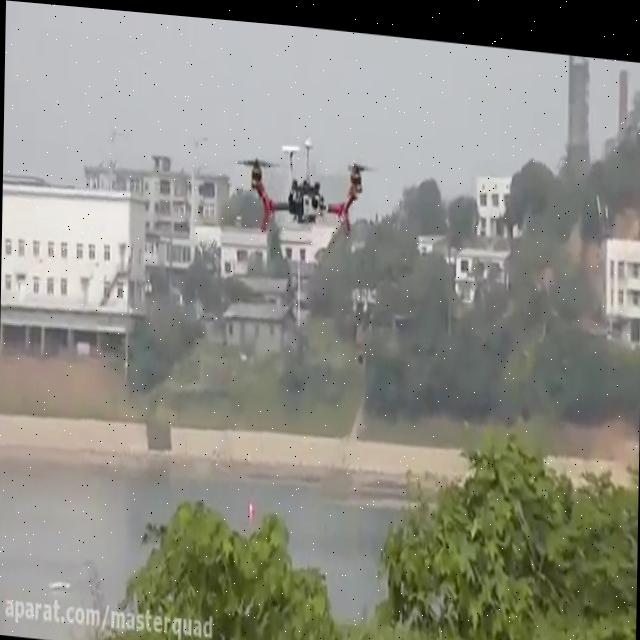drone: (229, 121, 385, 243)
